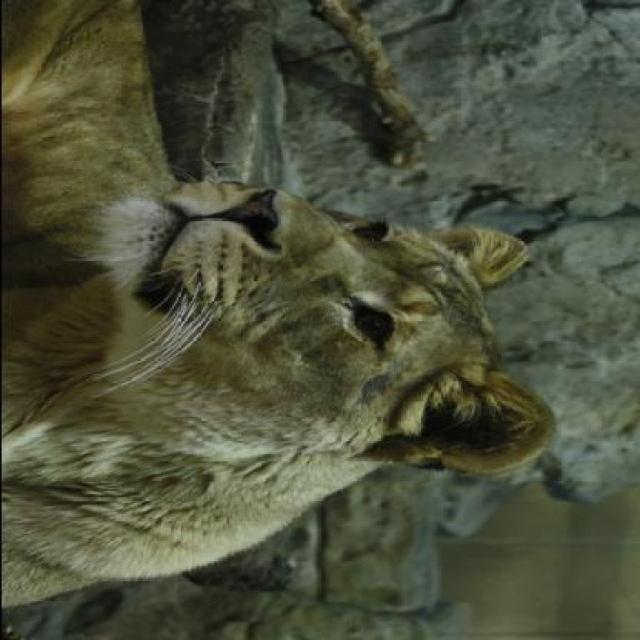Lion: (2, 1, 584, 602)
